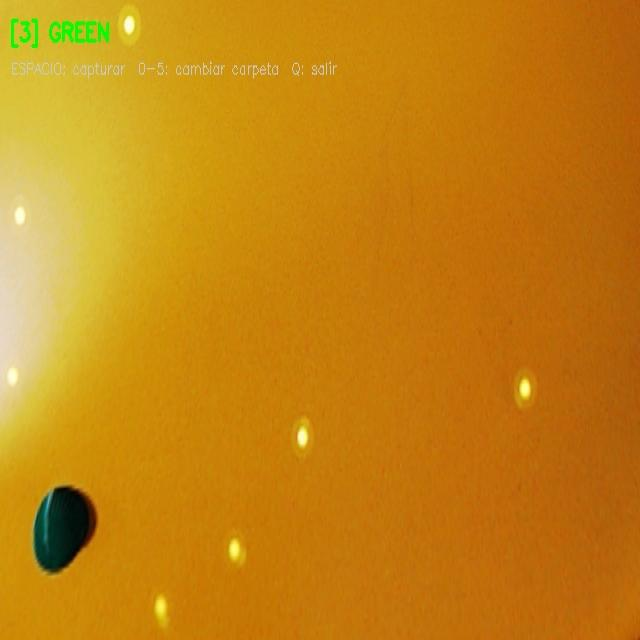green: (33, 484, 96, 578)
